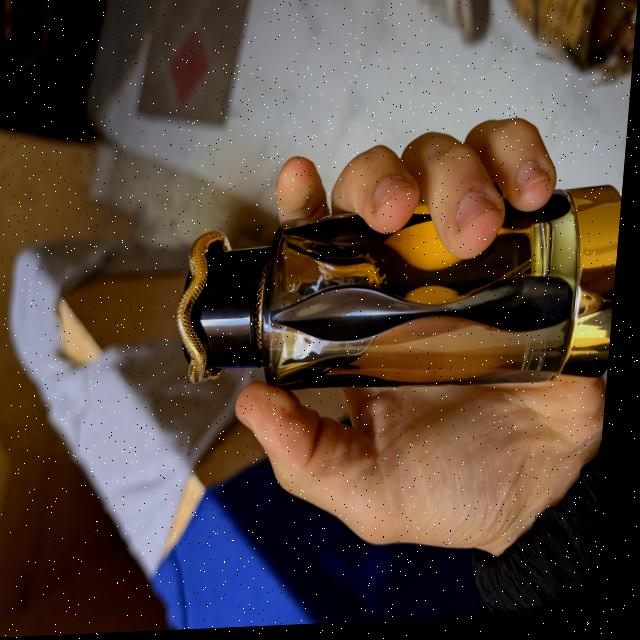Teriaq-Intense: (174, 187, 625, 405)
